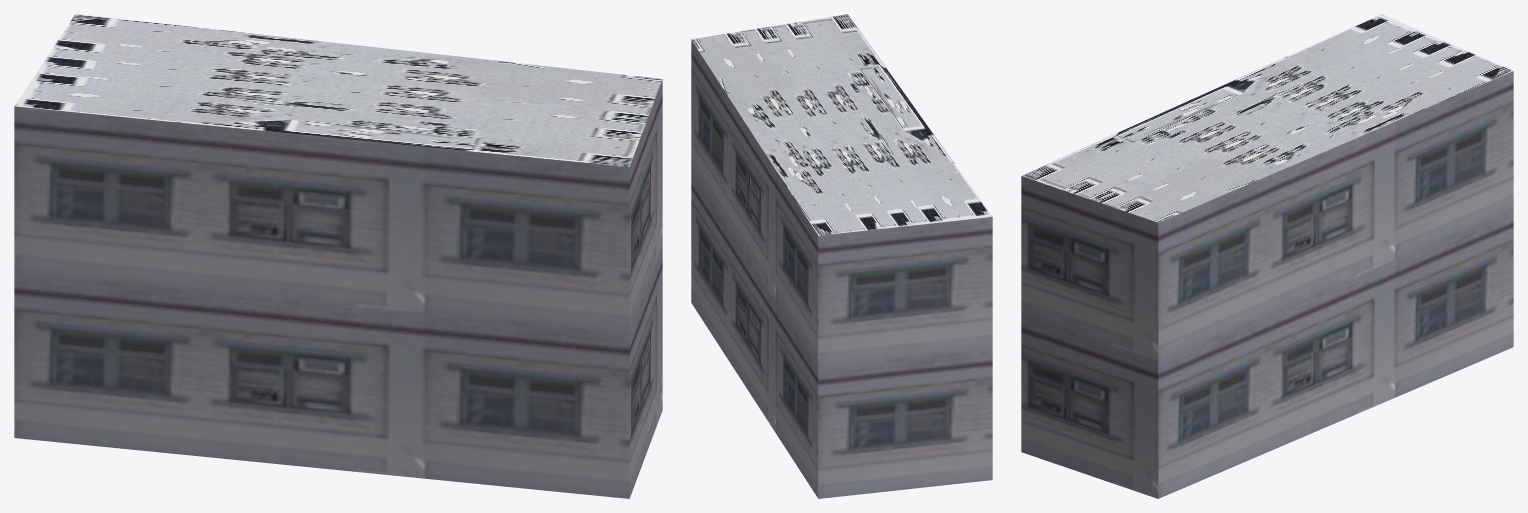
The model's file is ResTex__1417.fbx.
3 views of the same model, side by side, from view 1: azimuth 30°, elevation 25°; view 2: azimuth 150°, elevation 25°; view 3: azimuth 270°, elevation 25° (orthographic). The views are drawn at different scales.
Parts seen in each view (by area): view 1: CityEngineMaterial_1_m, CityEngineMaterial_4_m; view 2: CityEngineMaterial_1_m, CityEngineMaterial_4_m; view 3: CityEngineMaterial_1_m, CityEngineMaterial_4_m.
Part boxes in pixels (x1,y1,x2,y2): CityEngineMaterial_1_m: (14, 79, 662, 498); CityEngineMaterial_4_m: (15, 14, 662, 167); CityEngineMaterial_1_m: (691, 40, 992, 498); CityEngineMaterial_4_m: (691, 14, 992, 235); CityEngineMaterial_1_m: (1021, 71, 1513, 498); CityEngineMaterial_4_m: (1022, 14, 1512, 222).
Size of the model in its own units: 9.73 by 6 by 9.69.
Materials: 2 (2 with a texture image).
